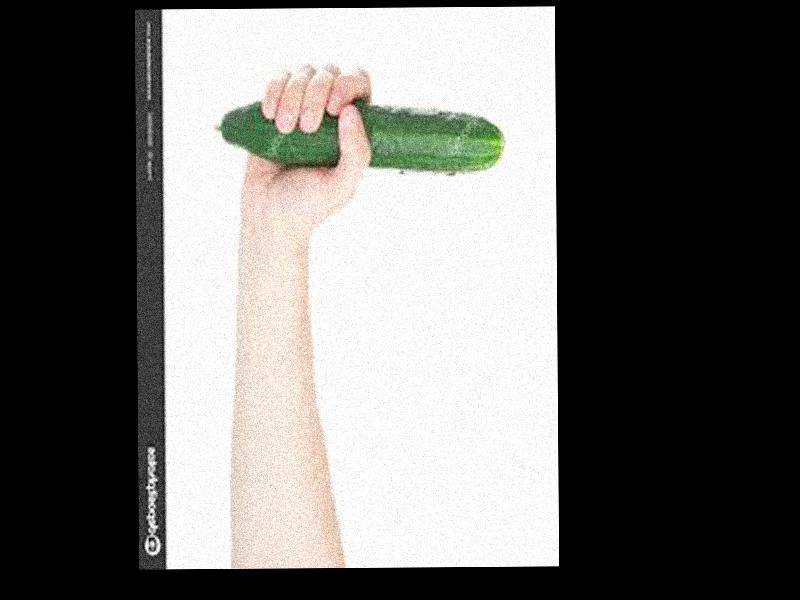Cucumber: (215, 99, 504, 174)
